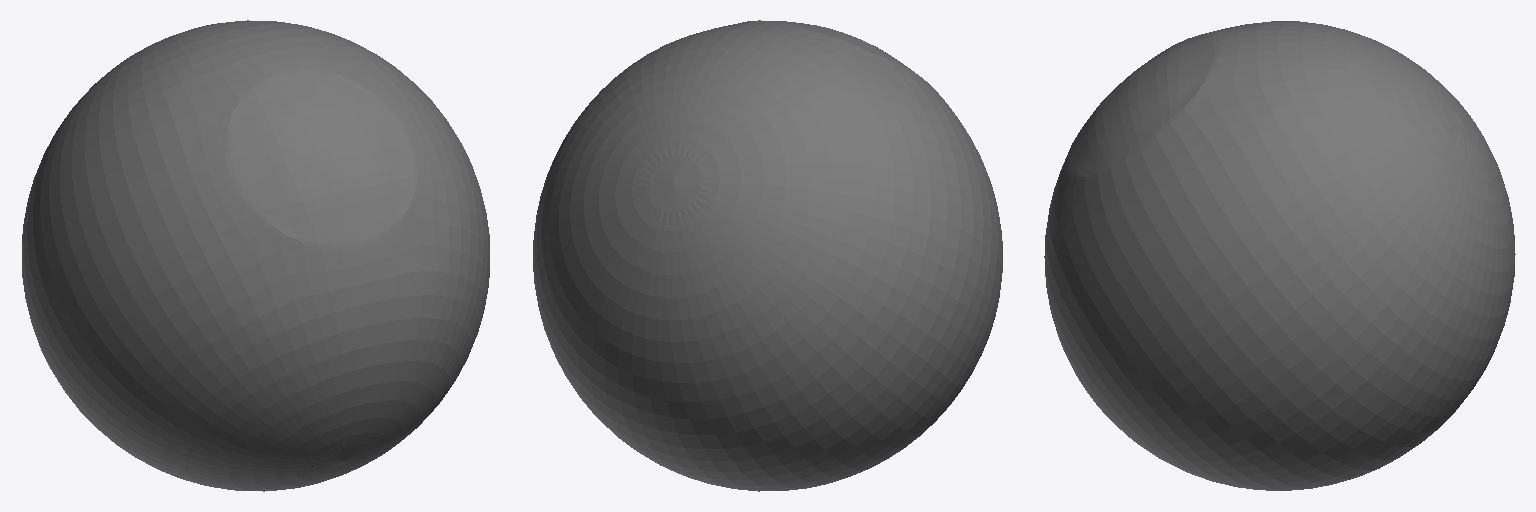
robot.urdf — 13_ball:
<?xml version="1.0"?>
<robot name="13_ball">
  <link name="base">
    <visual>
      <geometry>
        <mesh filename="13_ball.obj" scale="1 1 1"/>
      </geometry>
      <material name="gray">
        <color rgba="0.5 0.5 0.5 1.0"/>
      </material>
    </visual>
    <collision>
      <geometry>
        <mesh filename="13_ball.obj" scale="1 1 1"/>
      </geometry>
    </collision>
    <inertial>
      <mass value="1.000"/>
      <inertia
          ixx="0.001035" ixy="0.000000" ixz="0.000000"
          iyy="0.001032" iyz="0.000000"
          izz="0.001032"/>
      <origin xyz="-0.086861 0.117029 0.833097" rpy="0 0 0"/>
    </inertial>
  </link>
</robot>

--- Render facts (derived) ---
3 views of the same robot in one strip: view 1: azimuth 30°, elevation 25°; view 2: azimuth 150°, elevation 25°; view 3: azimuth 270°, elevation 25° (orthographic).
Robot: 13_ball — 1 links, 0 joints (none); root link base; default pose: every joint at zero.
Visible links, largest first — view 1: base; view 2: base; view 3: base.
Boxes of the visible links, x1,y1,x2,y2 form: base: [22, 20, 489, 491]; base: [533, 20, 1002, 491]; base: [1044, 21, 1515, 490].
Size in the robot's own frame: 0.0786 by 0.0789 by 0.0788 metres.
1 mesh visuals loaded from 1 distinct referenced files (1 OBJ).
